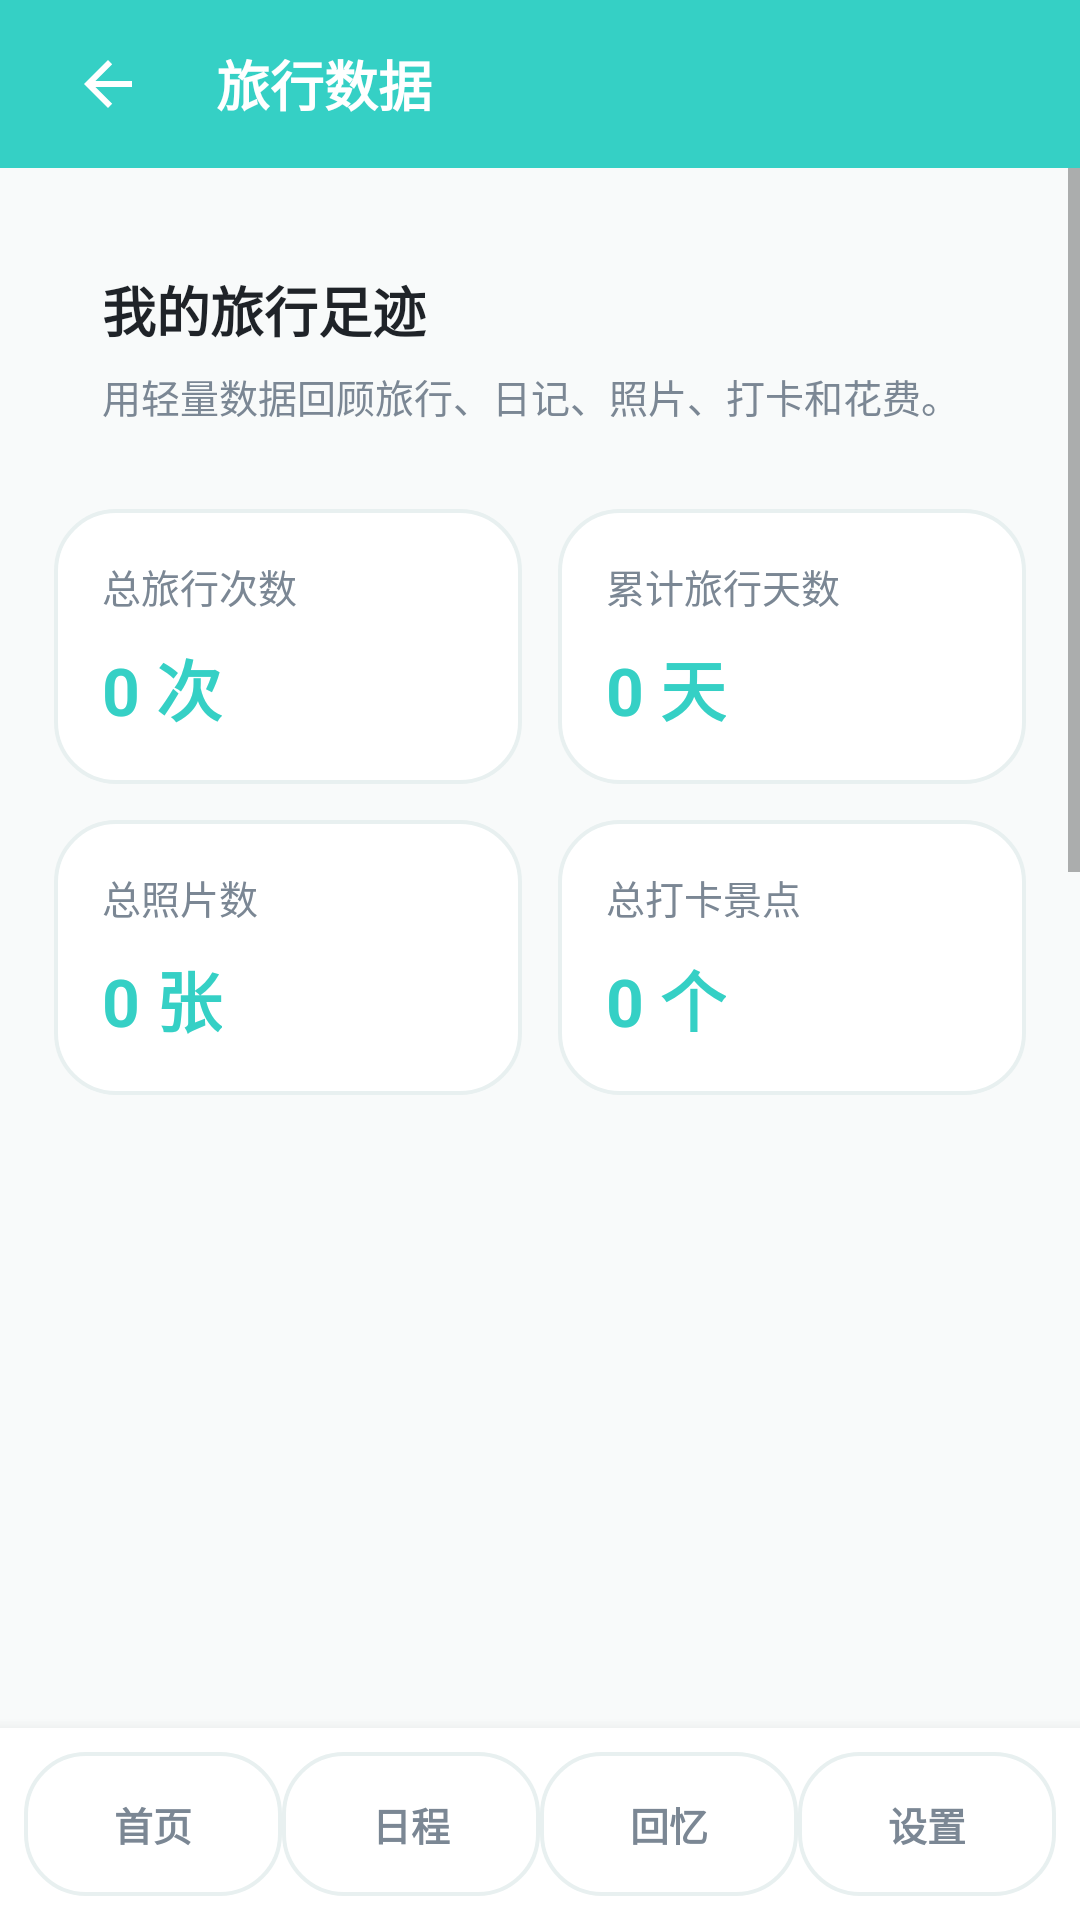

Icon click points for this 1080px×1920px phone screenshot, format (x,y):
返回: (108,84)
